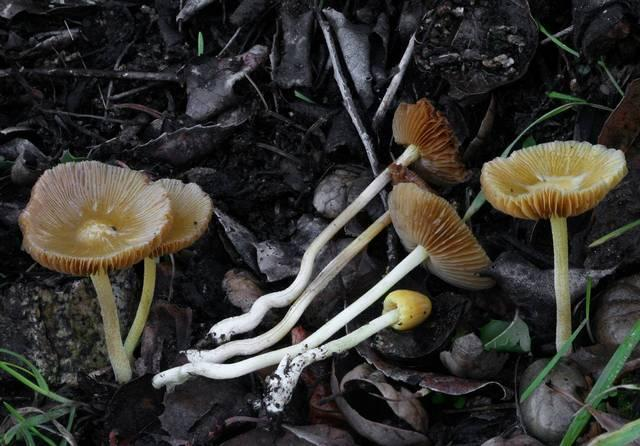edible_mushroom: (17, 158, 213, 384), (360, 91, 494, 359), (479, 138, 628, 356)
